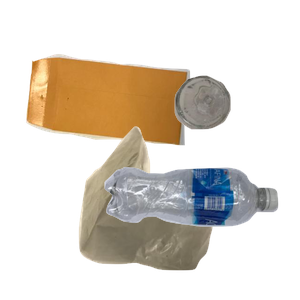glass: (172, 73, 300, 195)
paper: (23, 51, 206, 189)
plastic: (102, 165, 300, 300)
trash: (76, 124, 287, 300)
